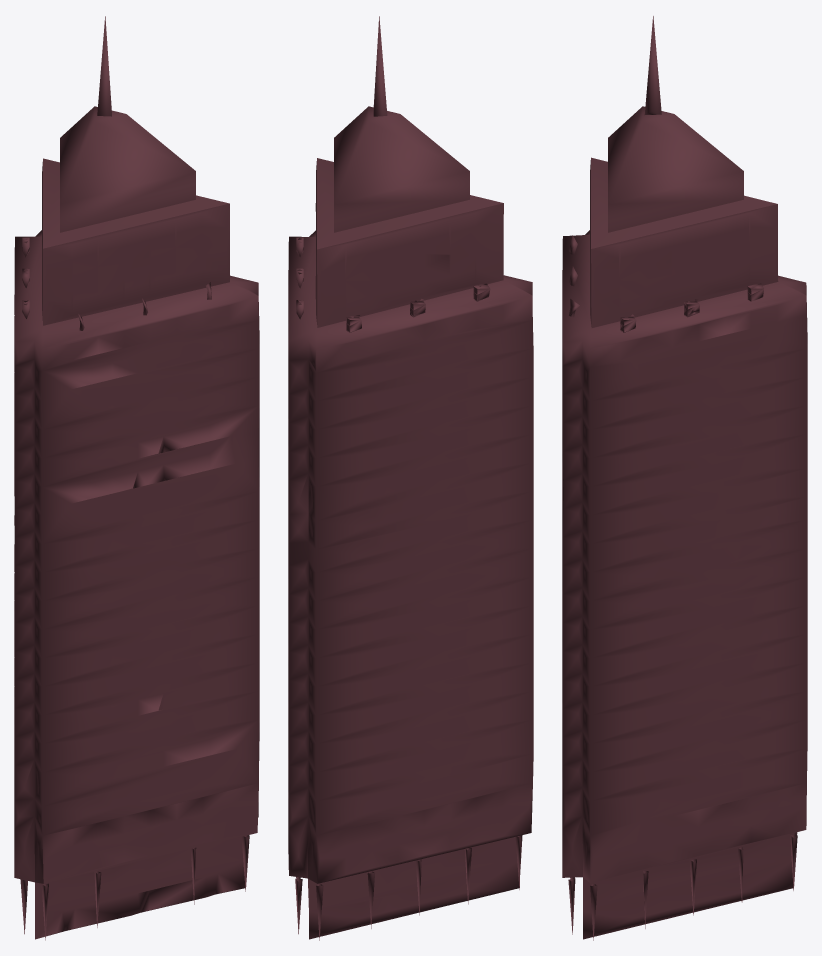
The model's file is building-skyscraper.fbx.
The picture shows the model from 3 angles, left to right: view 1: azimuth 30°, elevation 25°; view 2: azimuth 150°, elevation 25°; view 3: azimuth 270°, elevation 25°; orthographic projection.
Visible parts, largest first — view 1: building-skyscraper; view 2: building-skyscraper; view 3: building-skyscraper.
Part boxes in pixels (bbox=[...]): building-skyscraper: bbox=[14, 16, 259, 940]; building-skyscraper: bbox=[288, 16, 533, 940]; building-skyscraper: bbox=[562, 16, 807, 940].
Bounding box in the file's own units: 2695 × 9181 × 2336.
